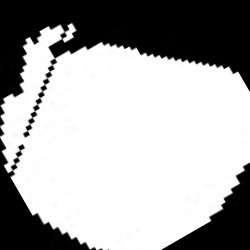spot: (0, 24, 249, 249)
